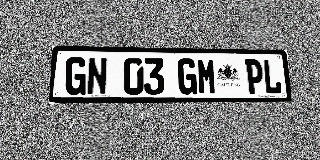0: (124, 58, 144, 95)
3: (144, 58, 164, 95)
G: (64, 57, 87, 95), (177, 58, 197, 95)
L: (263, 59, 282, 94)
M: (197, 59, 217, 95)
N: (86, 57, 108, 95)
P: (244, 59, 264, 94)
